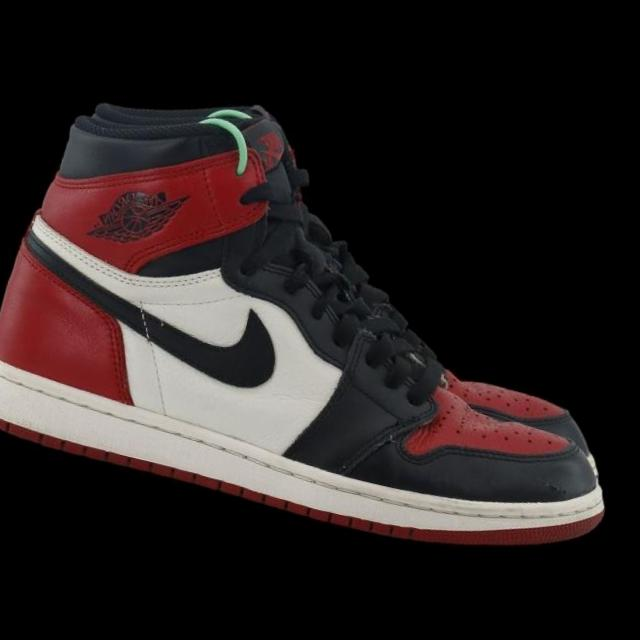nike_original_jordan: (0, 73, 640, 588), (45, 68, 640, 448)
